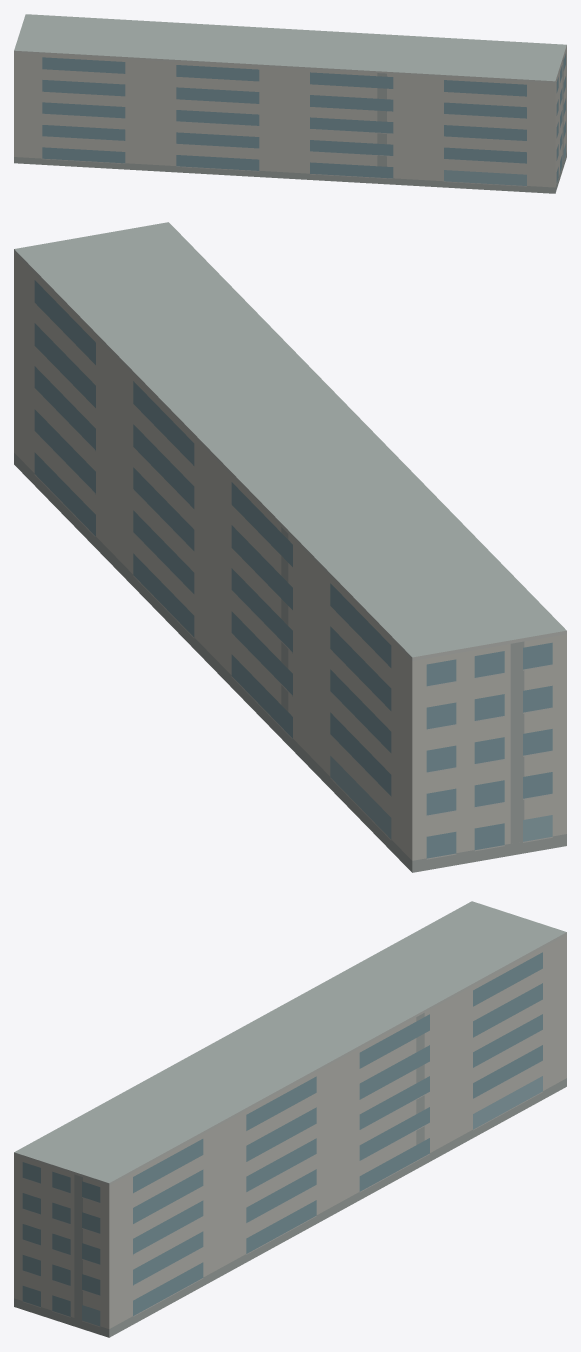
Rendered from residential-28bcea53-6206-4f81-a61c-3484ede05deb.glb.
The picture shows the model from 3 angles, top to bottom: view 1: azimuth 30°, elevation 25°; view 2: azimuth 150°, elevation 25°; view 3: azimuth 270°, elevation 25°; orthographic projection. The views are drawn at different scales.
Parts seen in each view (by area): view 1: residential-28bcea53-6206-4f81-a61c-3484ede05deb.tmp; view 2: residential-28bcea53-6206-4f81-a61c-3484ede05deb.tmp; view 3: residential-28bcea53-6206-4f81-a61c-3484ede05deb.tmp.
Boxes of the visible parts, <box> form: residential-28bcea53-6206-4f81-a61c-3484ede05deb.tmp: <box>14,14,566,193</box>; residential-28bcea53-6206-4f81-a61c-3484ede05deb.tmp: <box>14,222,566,872</box>; residential-28bcea53-6206-4f81-a61c-3484ede05deb.tmp: <box>14,901,566,1337</box>.
Size of the model in its own units: 59.7 by 15.25 by 49.45.
